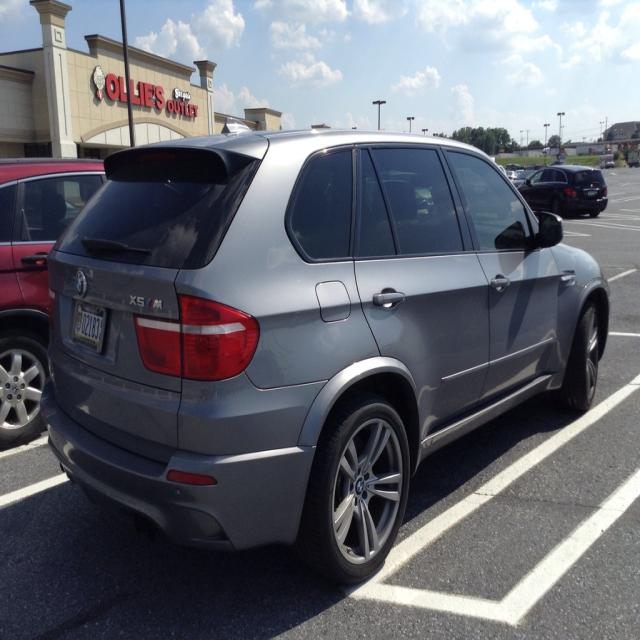car: (36, 117, 611, 583)
